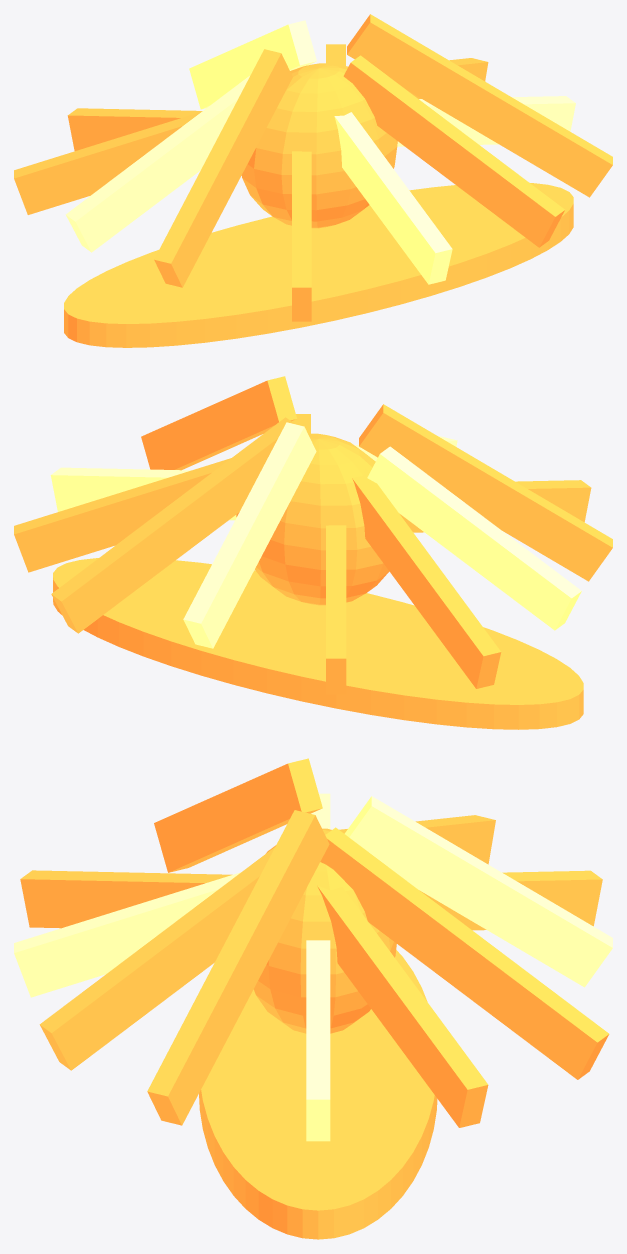
Rendered from ember_impact.glb.
The picture shows the model from 3 angles, top to bottom: view 1: azimuth 30°, elevation 25°; view 2: azimuth 150°, elevation 25°; view 3: azimuth 270°, elevation 25°; orthographic projection. The views are drawn at different scales.
Parts seen in each view (by area): view 1: ember impact scorched hit ring, ember impact flame lash 11, ember impact furnace heart, ember impact flame lash 10, ember impact flame lash 7, ember impact flame lash 6, ember impact flame lash 9, ember impact flame lash 5, ember impact flame lash 3, ember impact flame lash 8, ember impact flame lash 4, ember impact flame lash 0 (+2 smaller); view 2: ember impact scorched hit ring, ember impact flame lash 2, ember impact flame lash 7, ember impact furnace heart, ember impact flame lash 6, ember impact flame lash 5, ember impact flame lash 3, ember impact flame lash 1, ember impact flame lash 11, ember impact flame lash 4, ember impact flame lash 0, ember impact flame lash 8; view 3: ember impact scorched hit ring, ember impact flame lash 2, ember impact flame lash 3, ember impact flame lash 11, ember impact flame lash 10, ember impact flame lash 1, ember impact flame lash 9, ember impact flame lash 7, ember impact furnace heart, ember impact flame lash 8, ember impact flame lash 0, ember impact flame lash 4 (+1 smaller).
Boxes of the visible parts, left/top/right/bottom form: ember impact scorched hit ring: left=64, top=183, right=573, bottom=347; ember impact flame lash 11: left=347, top=14, right=612, bottom=197; ember impact furnace heart: left=241, top=63, right=397, bottom=228; ember impact flame lash 10: left=343, top=55, right=564, bottom=247; ember impact flame lash 7: left=154, top=49, right=292, bottom=287; ember impact flame lash 6: left=65, top=76, right=249, bottom=252; ember impact flame lash 9: left=334, top=112, right=452, bottom=284; ember impact flame lash 5: left=14, top=112, right=200, bottom=214; ember impact flame lash 3: left=189, top=20, right=316, bottom=109; ember impact flame lash 8: left=292, top=151, right=311, bottom=321; ember impact flame lash 4: left=67, top=108, right=202, bottom=150; ember impact flame lash 0: left=397, top=96, right=575, bottom=146; ember impact scorched hit ring: left=53, top=558, right=583, bottom=729; ember impact flame lash 2: left=51, top=417, right=294, bottom=633; ember impact flame lash 7: left=359, top=404, right=612, bottom=581; ember impact furnace heart: left=236, top=433, right=389, bottom=605; ember impact flame lash 6: left=367, top=446, right=581, bottom=630; ember impact flame lash 5: left=352, top=468, right=501, bottom=688; ember impact flame lash 3: left=183, top=422, right=316, bottom=648; ember impact flame lash 1: left=14, top=458, right=230, bottom=572; ember impact flame lash 11: left=141, top=376, right=296, bottom=470; ember impact flame lash 4: left=326, top=525, right=346, bottom=694; ember impact flame lash 0: left=50, top=467, right=236, bottom=520; ember impact flame lash 8: left=399, top=480, right=591, bottom=532; ember impact scorched hit ring: left=199, top=950, right=437, bottom=1239; ember impact flame lash 2: left=320, top=827, right=609, bottom=1079; ember impact flame lash 3: left=344, top=796, right=612, bottom=987; ember impact flame lash 11: left=147, top=810, right=329, bottom=1125; ember impact flame lash 10: left=39, top=847, right=274, bottom=1070; ember impact flame lash 1: left=317, top=885, right=488, bottom=1127; ember impact flame lash 9: left=14, top=872, right=240, bottom=997; ember impact flame lash 7: left=154, top=758, right=322, bottom=872; ember impact furnace heart: left=253, top=828, right=396, bottom=1033; ember impact flame lash 8: left=20, top=870, right=232, bottom=928; ember impact flame lash 0: left=306, top=940, right=330, bottom=1141; ember impact flame lash 4: left=419, top=870, right=602, bottom=930.
Size of the model in its own units: 0.8828 by 0.4221 by 0.7494.
